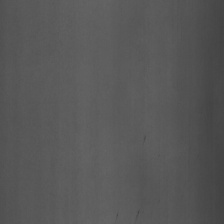inclusion: (140, 128, 152, 145), (134, 207, 143, 221), (113, 211, 120, 221)
